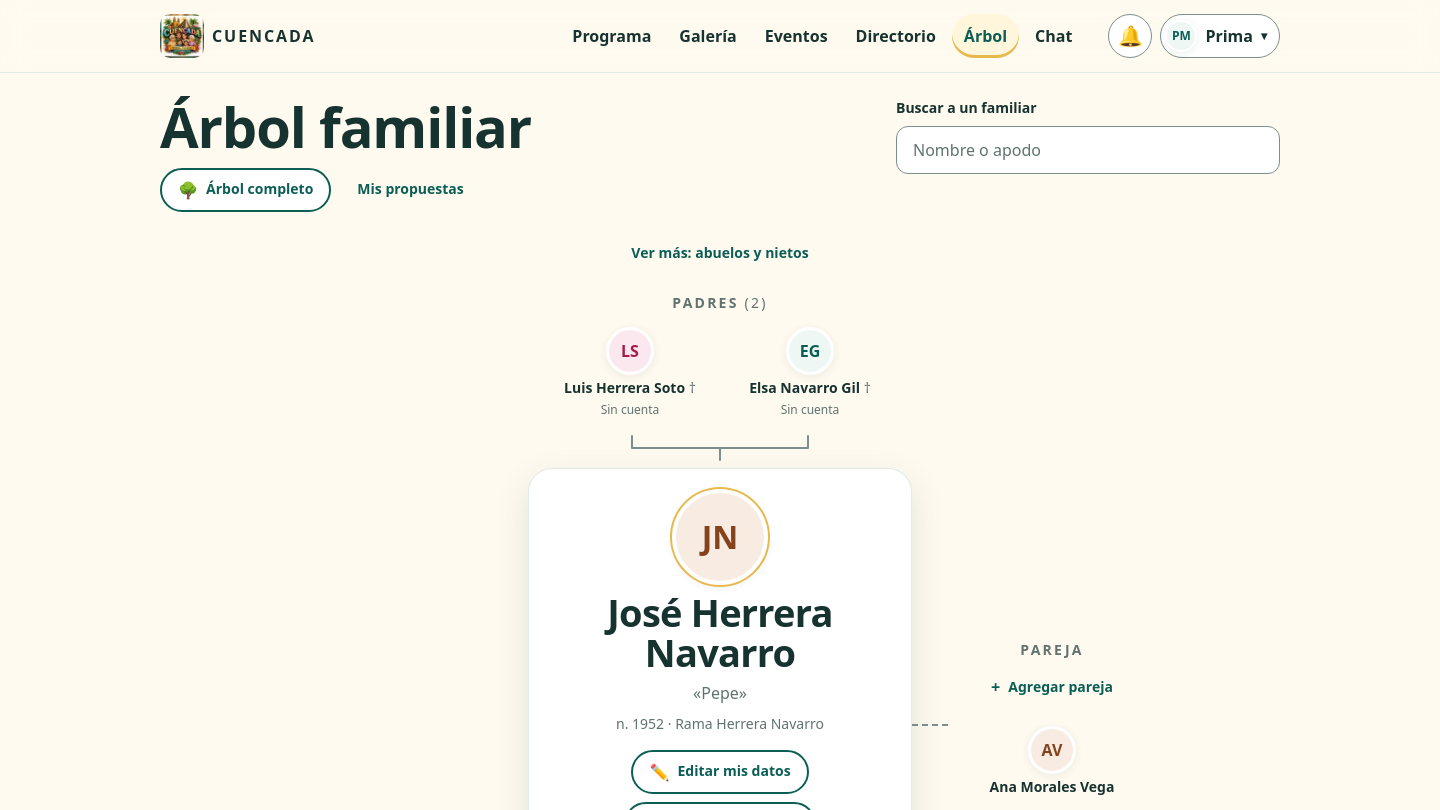
Test: FamilyTreePage › offers «Editar mis datos» on my own node (canEdit) and sends only the changed fields
Step 1. Click the button "✏️ Editar mis datos" → [720, 772], box [631,750,809,794]
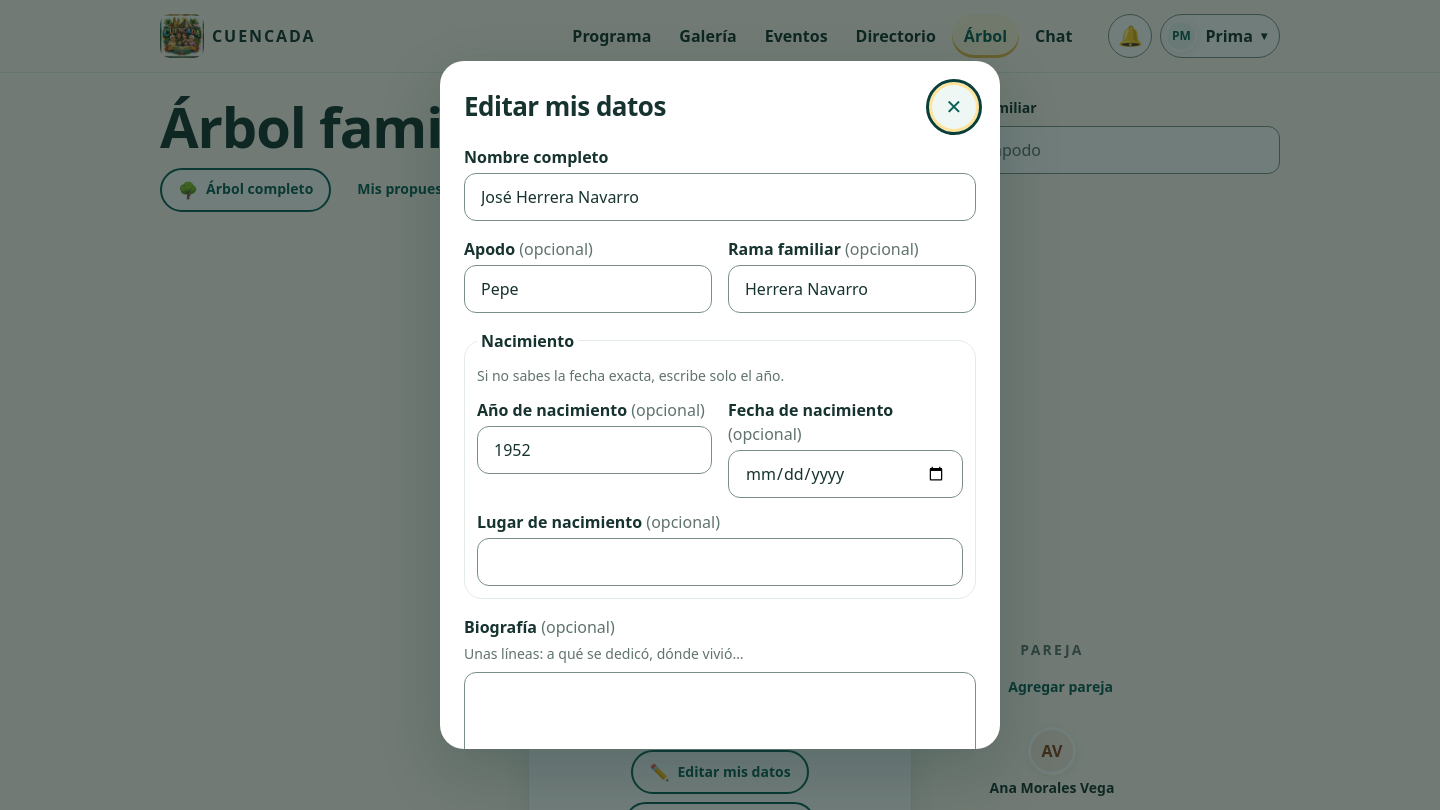
Expected: the field labelled "Apodo (opcional)" holds "Pepe"
Expected: the field labelled "Rama familiar (opcional)" holds "Herrera Navarro", [728,265,976,313]
Expected: the field labelled "Año de nacimiento (opcional)" holds "1952", [477,426,712,474]
Step 2. Replace the text in the field labelled "Apodo (opcional)" with "Jorgito" → [588, 289], box [464,265,712,313]
(page scrolled)
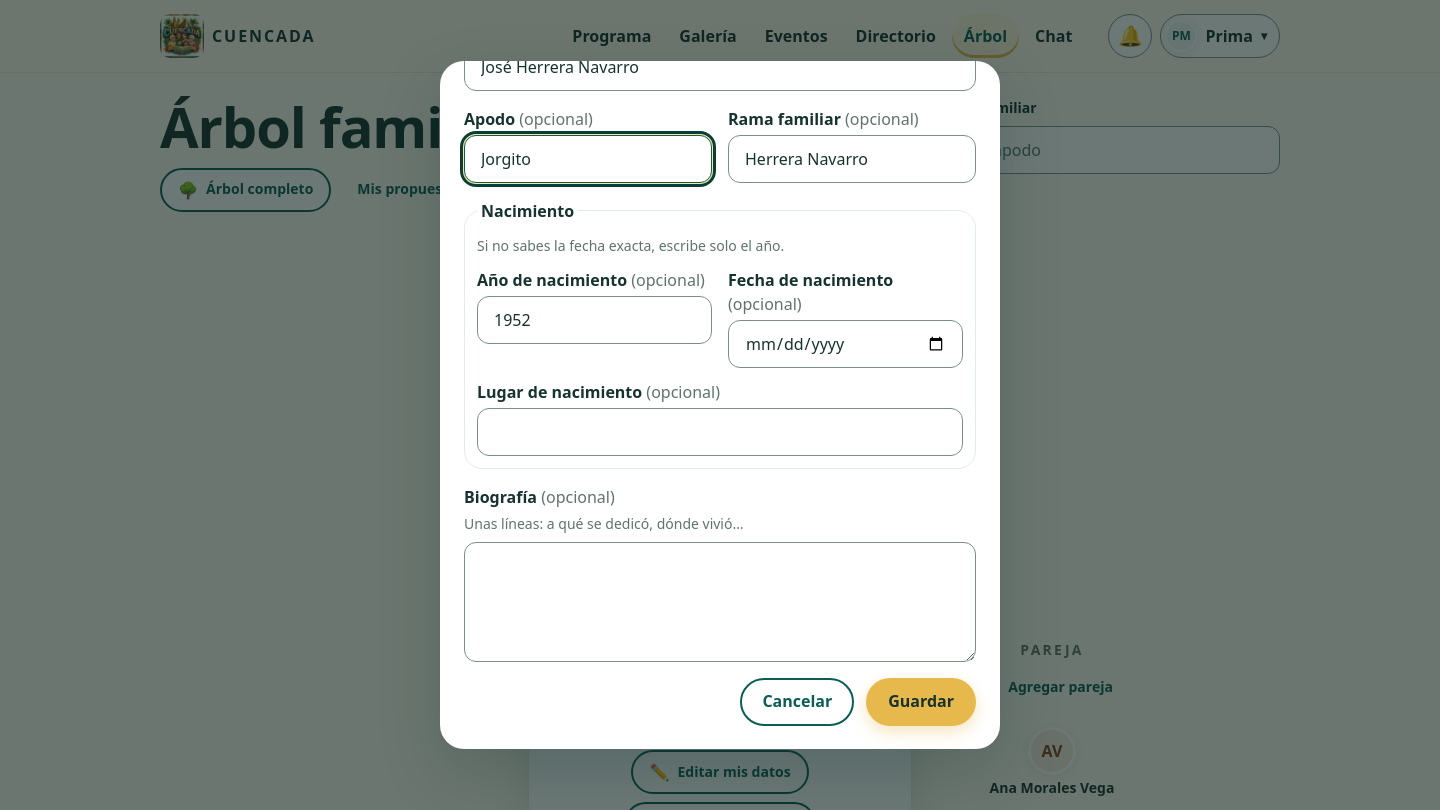
Step 3. Click the button "Guardar" → [921, 702], box [866,678,976,726]
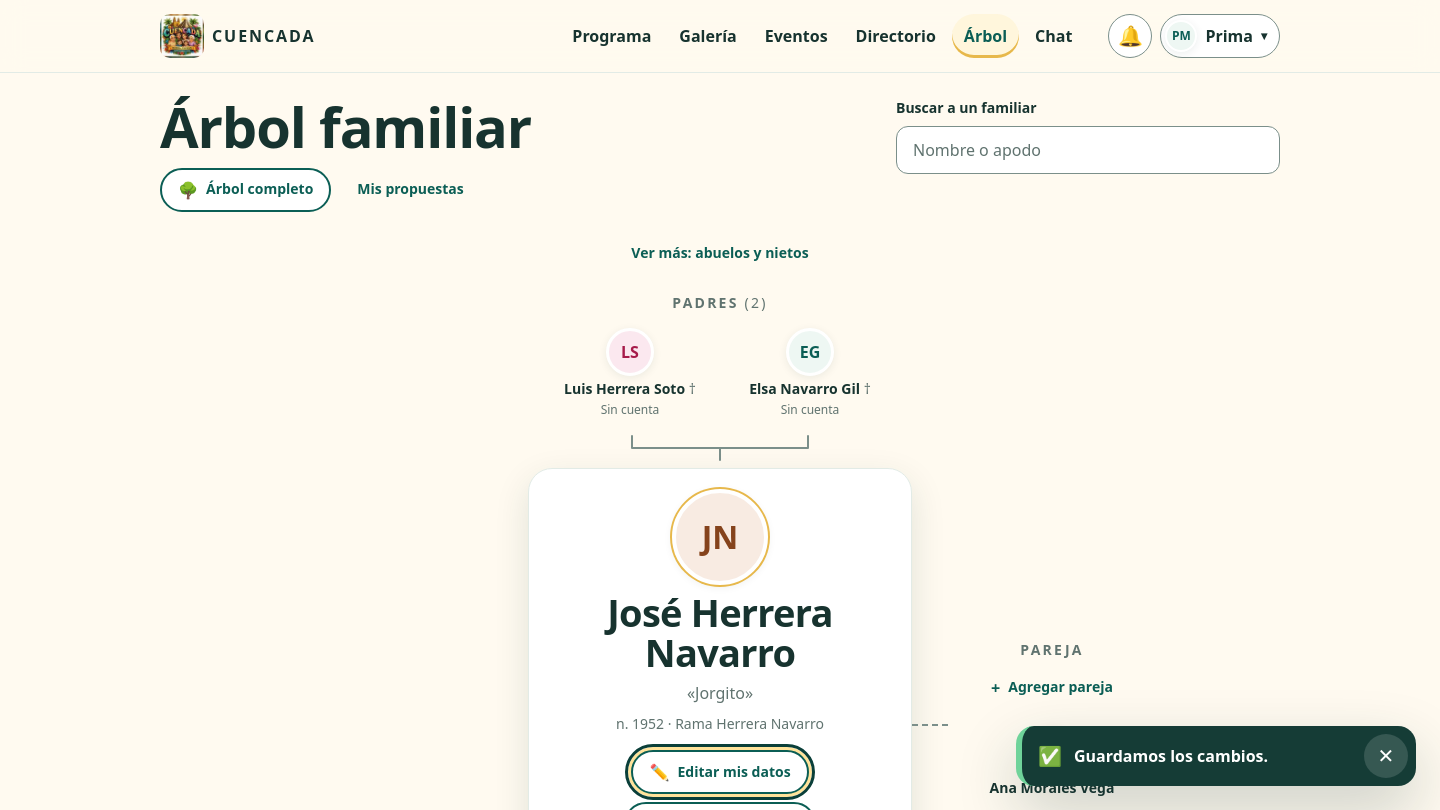
Expected: the text "«Jorgito»" is shown, [687,681,753,705]
